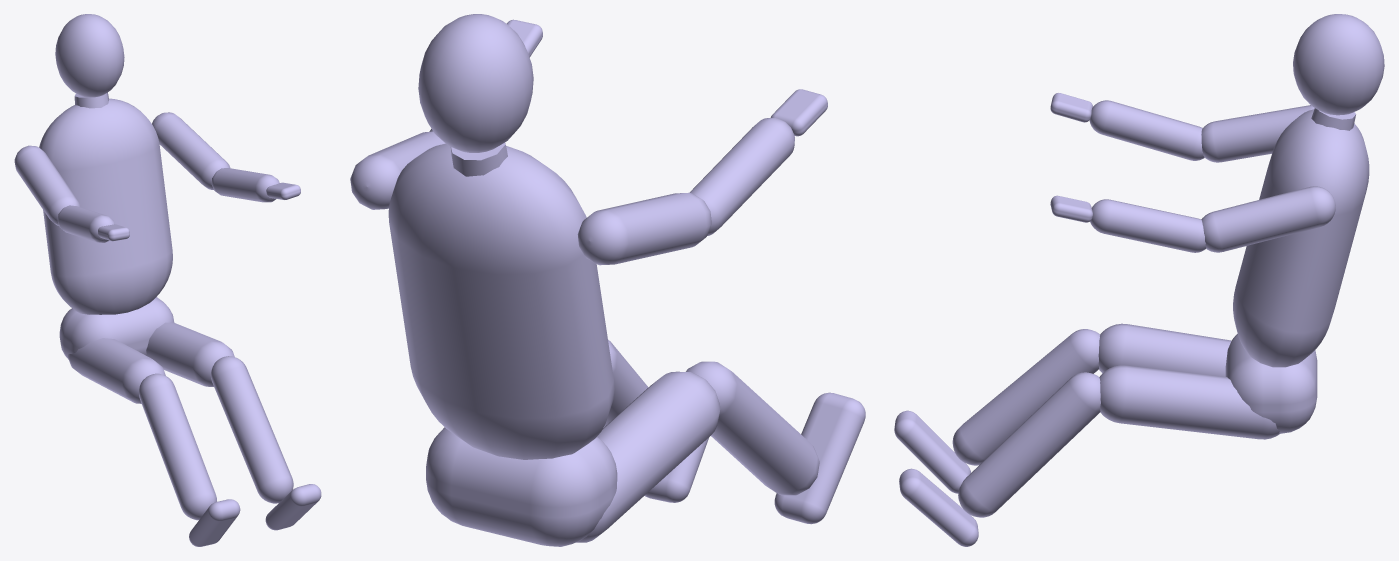
File: mannequin-driver.glb
3 renders of one model, left to right at view 1: azimuth 30°, elevation 25°; view 2: azimuth 150°, elevation 25°; view 3: azimuth 270°, elevation 25°, orthographic. The views are drawn at different scales.
Parts seen in each view (by area): view 1: chest, shinL, shinR, headMesh, pelvis, thighR, thighL, upperArmL, upperArmR, foreArmL, footR, footL (+4 smaller); view 2: chest, pelvis, headMesh, thighR, shinR, upperArmR, footR, foreArmR, upperArmL, handR, footL, shinL (+2 smaller); view 3: chest, thighL, shinL, headMesh, shinR, upperArmL, pelvis, thighR, foreArmR, foreArmL, upperArmR, footL (+4 smaller).
Boxes of the visible parts, bbox=[...] form: chest: bbox=[39, 98, 172, 314]; shinL: bbox=[210, 356, 293, 503]; shinR: bbox=[139, 373, 216, 520]; headMesh: bbox=[55, 14, 124, 97]; pelvis: bbox=[59, 297, 174, 359]; thighR: bbox=[67, 338, 165, 403]; thighL: bbox=[146, 322, 234, 386]; upperArmL: bbox=[152, 112, 230, 189]; upperArmR: bbox=[14, 145, 79, 225]; foreArmL: bbox=[211, 168, 279, 202]; footR: bbox=[189, 499, 240, 546]; footL: bbox=[265, 484, 321, 530]; chest: bbox=[388, 143, 614, 459]; pelvis: bbox=[426, 427, 617, 546]; headMesh: bbox=[418, 14, 533, 152]; thighR: bbox=[576, 371, 720, 542]; shinR: bbox=[686, 361, 819, 495]; upperArmR: bbox=[577, 192, 711, 265]; footR: bbox=[774, 392, 865, 524]; foreArmR: bbox=[690, 118, 794, 235]; upperArmL: bbox=[350, 131, 445, 209]; handR: bbox=[770, 89, 827, 136]; footL: bbox=[644, 437, 708, 502]; shinL: bbox=[603, 339, 648, 427]; chest: bbox=[1233, 109, 1369, 367]; thighL: bbox=[1099, 365, 1279, 439]; shinL: bbox=[958, 372, 1100, 517]; headMesh: bbox=[1293, 14, 1384, 115]; shinR: bbox=[952, 329, 1099, 465]; upperArmL: bbox=[1201, 186, 1335, 252]; pelvis: bbox=[1225, 334, 1317, 433]; thighR: bbox=[1098, 323, 1231, 376]; foreArmR: bbox=[1089, 100, 1204, 160]; foreArmL: bbox=[1090, 199, 1206, 252]; upperArmR: bbox=[1201, 105, 1314, 162]; footL: bbox=[899, 468, 978, 546].
Size of the model in its own units: 0.652 by 1.33 by 1.18.
